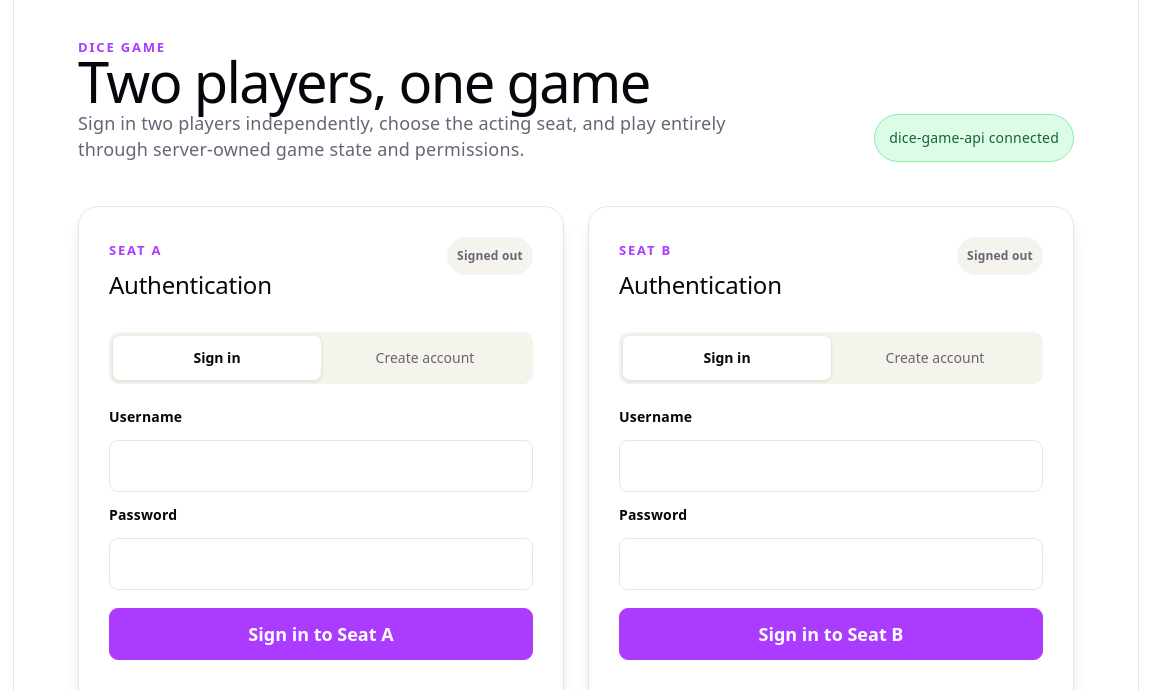
Test: App › registers without creating a session and clears both credential fields
Click the 1st button "Create account" at coordinates (425, 358), box [321,336,529,380]
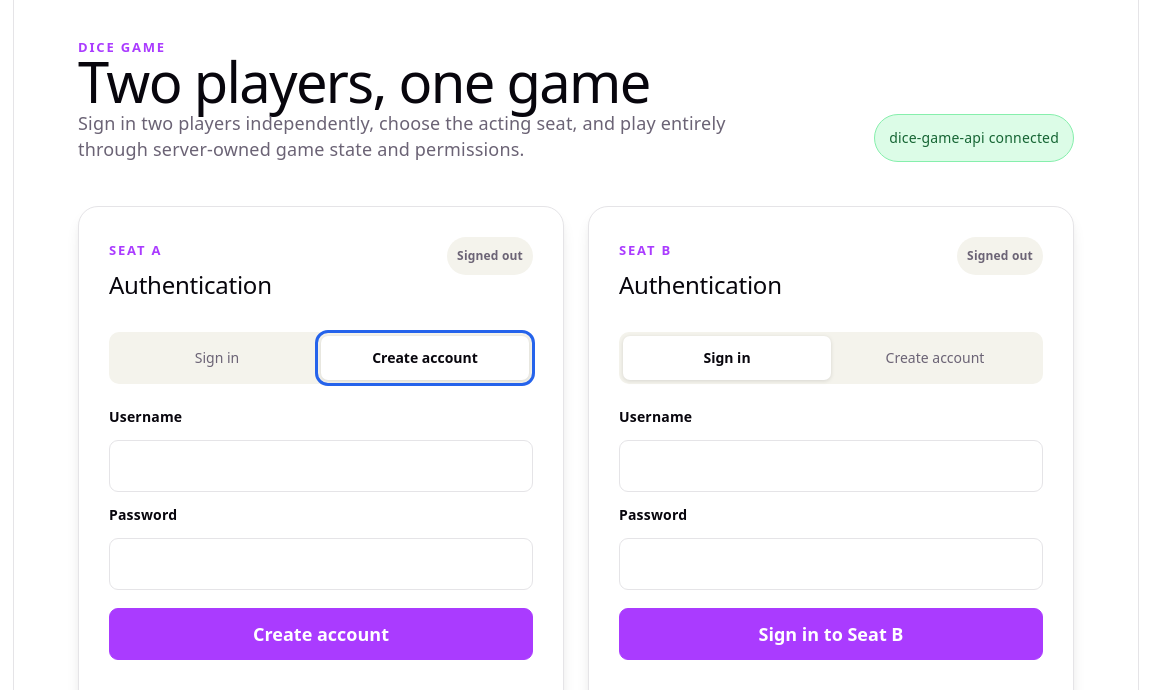
Type "SeatAlpha" into the 1st field labelled "Username" at coordinates (321, 466), box [109,440,533,492]
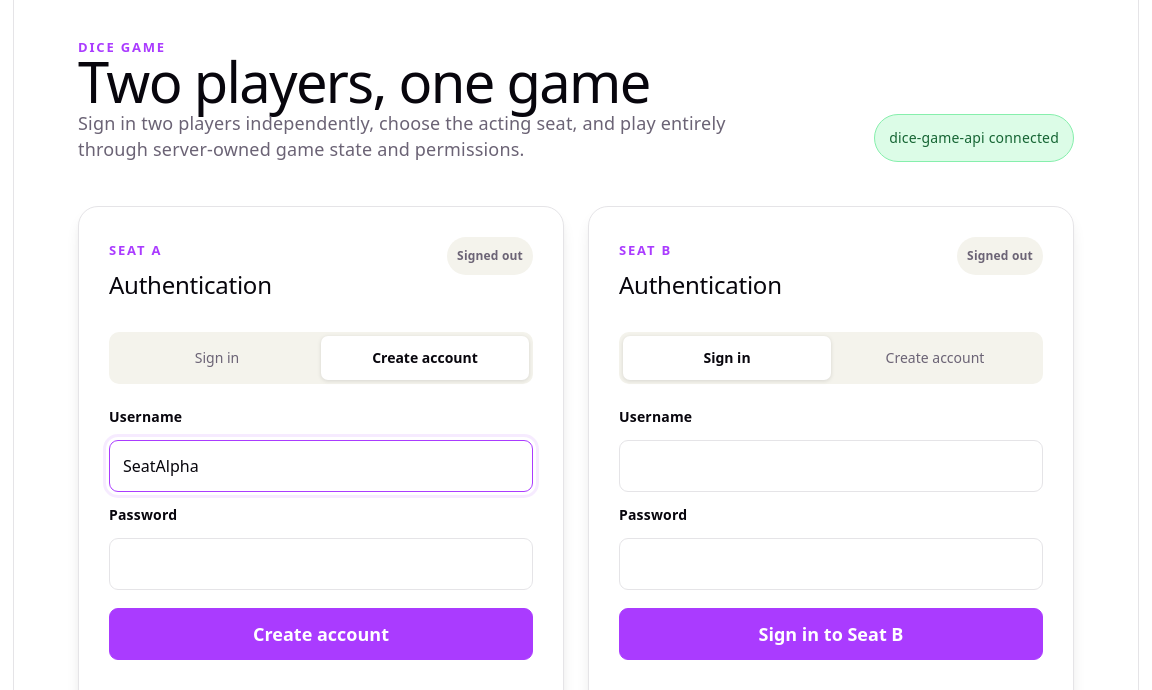
Type "private password" into the 1st password field labelled "Password" at coordinates (321, 564), box [109,538,533,590]
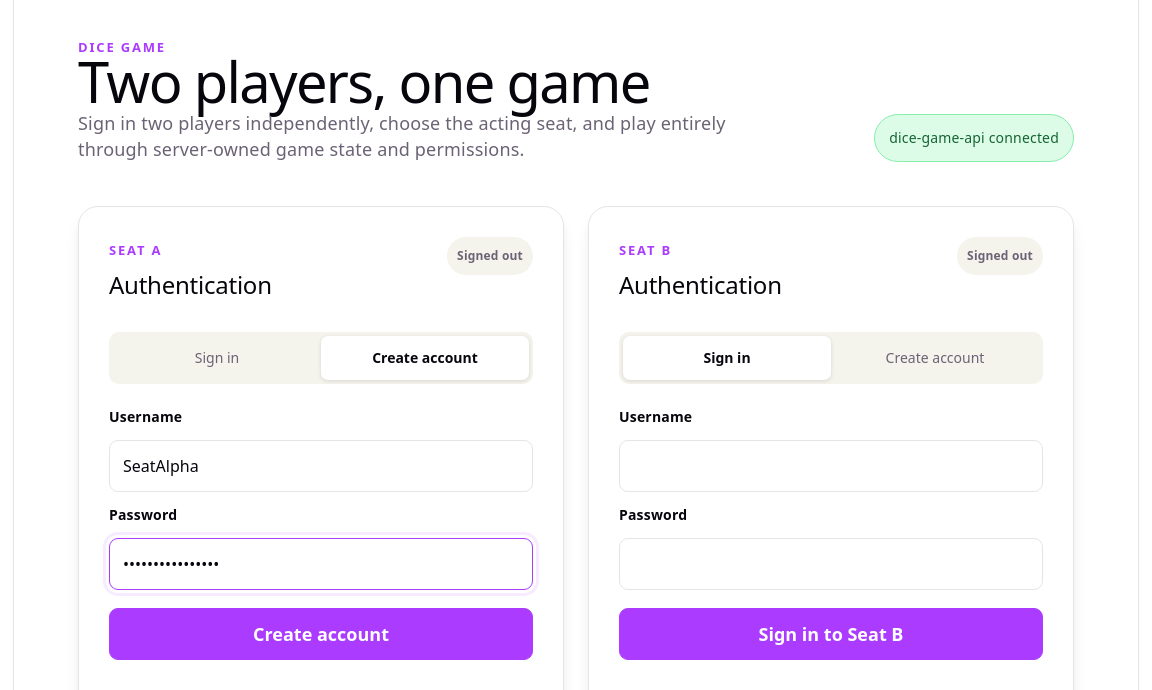
Click the 3rd button "Create account" at coordinates (321, 634), box [109,608,533,660]
(page scrolled)
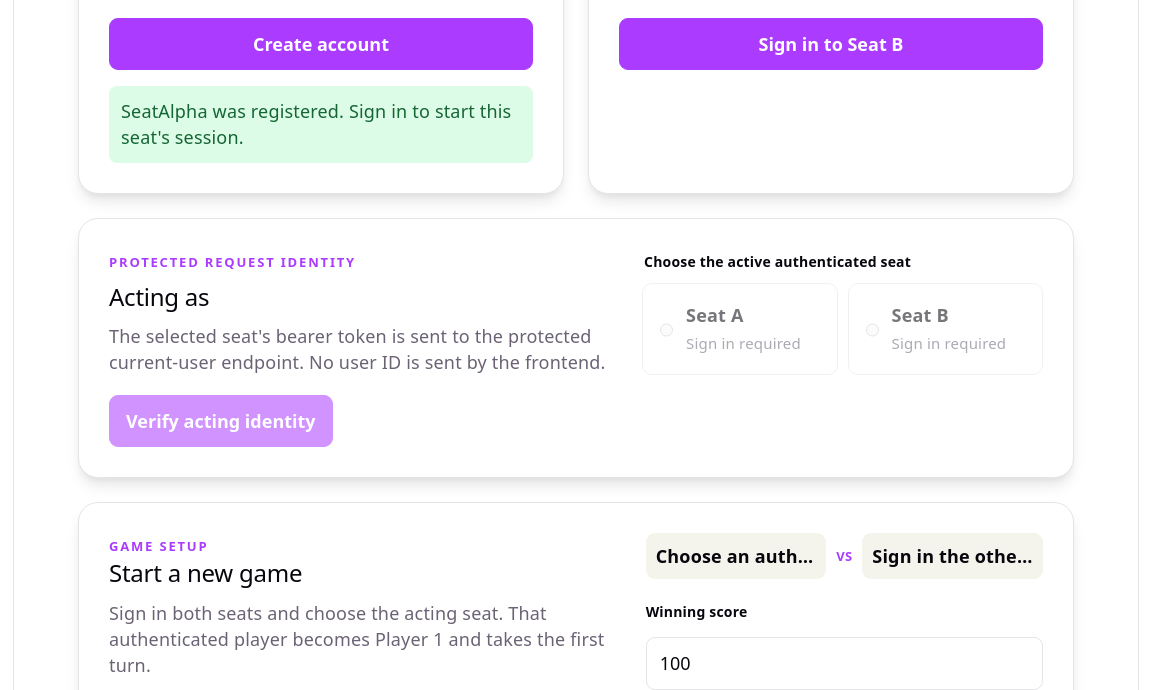
Expected: the radio button labelled "Seat A Sign in required" is disabled, [660,308,673,352]
Result: the text "SeatAlpha was registered" is shown at [121,99,511,149]
